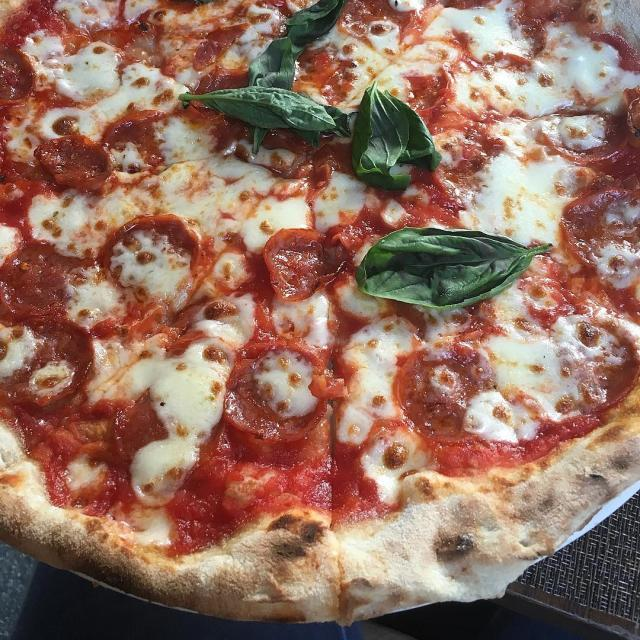basil: (357, 224, 556, 314), (346, 76, 446, 196), (182, 86, 352, 154), (246, 0, 350, 102)
pepperoni: (222, 338, 340, 440), (393, 337, 501, 443), (2, 307, 100, 420), (94, 214, 207, 306), (527, 98, 640, 184), (260, 218, 361, 303), (558, 182, 640, 278), (565, 313, 640, 413), (2, 234, 74, 320), (32, 124, 118, 194), (186, 23, 256, 90), (100, 110, 169, 172), (394, 58, 464, 112), (0, 30, 40, 111), (587, 24, 640, 76)
pizza: (0, 0, 640, 628)
